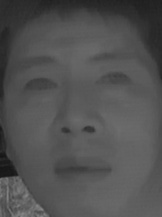eye: (95, 68, 134, 93), (21, 74, 61, 97)
mouth: (49, 150, 117, 189)
